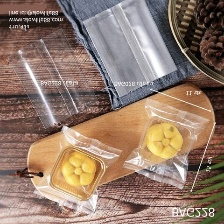snack: (2, 0, 182, 133), (118, 93, 214, 194), (29, 120, 126, 218)
